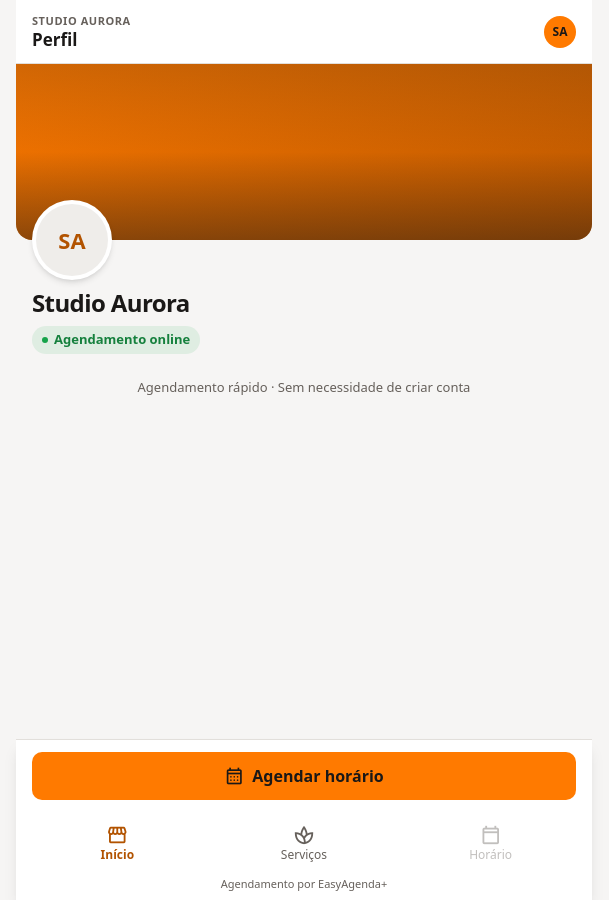
Test case: PublicBookingFlow › mostra o nome do negócio e os serviços elegíveis ao carregar
The image size is (609, 900).
Expected: the heading "Studio Aurora" is shown, [32,286,190,319]
Click the button "Agendar horário" at x=304, y=776, box [32,752,576,800]
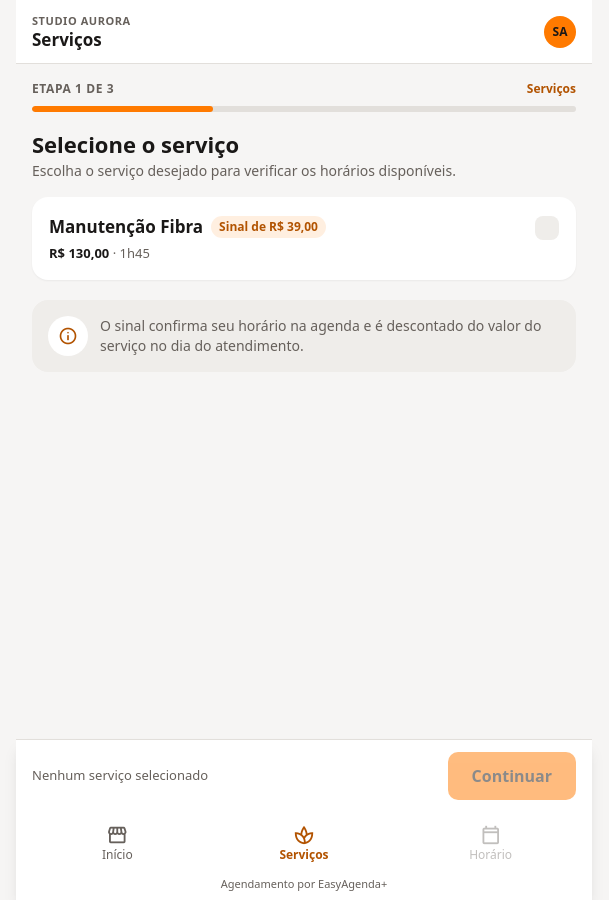
Expected: the text "Manutenção Fibra" is shown, [49,214,203,240]
